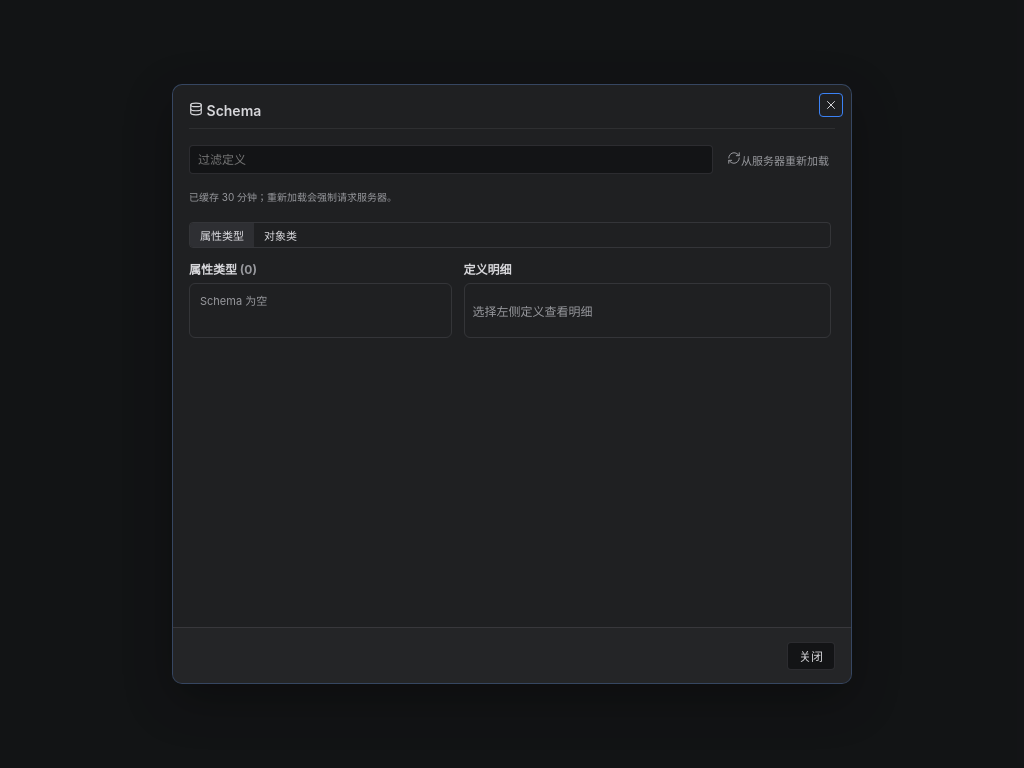
Test: SchemaPanel › shows the empty state in both tabs and hides the extra tabs when the server has no definitions
Check: the heading "属性类型 (0)" is shown, box [189, 262, 257, 276]
Check: the element showing "属性类型 (0) Schema 为空" is shown, box [189, 260, 452, 338]
What coordinates should you click on to do the following:
click the tab "对象类"
I would click on:
 (280, 234)
Its box is [254, 222, 307, 246].
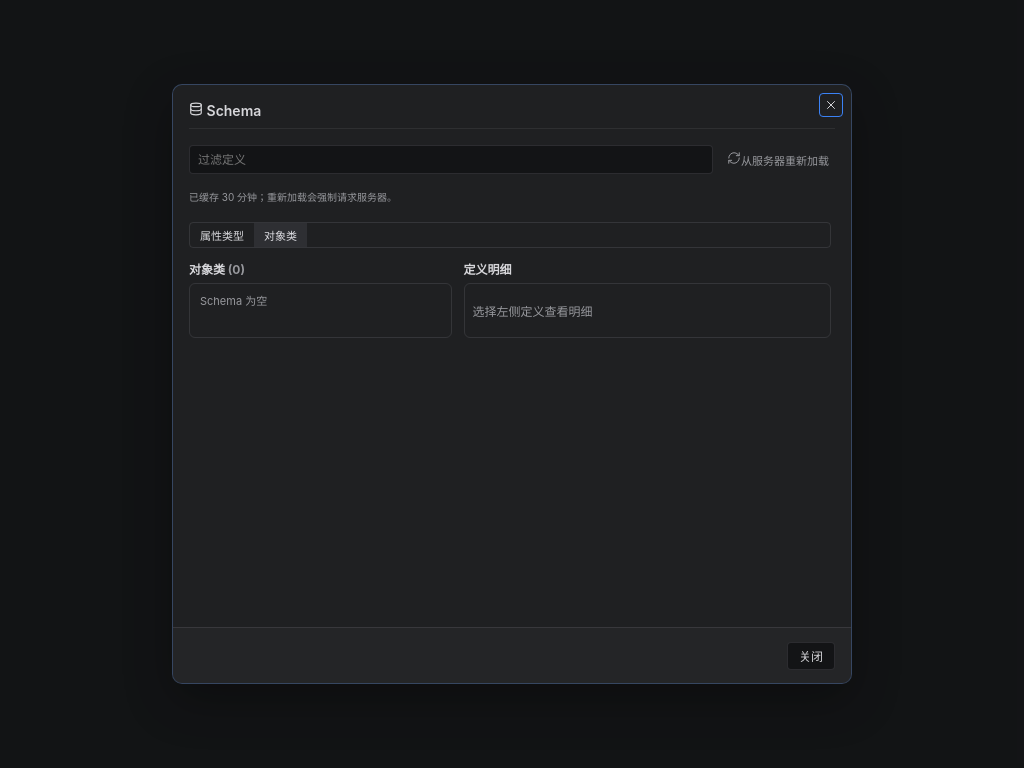
Check: the element showing "对象类 (0) Schema 为空" is shown, box [189, 260, 452, 338]
Check: the heading "对象类 (0)" is shown, box [189, 262, 245, 276]
